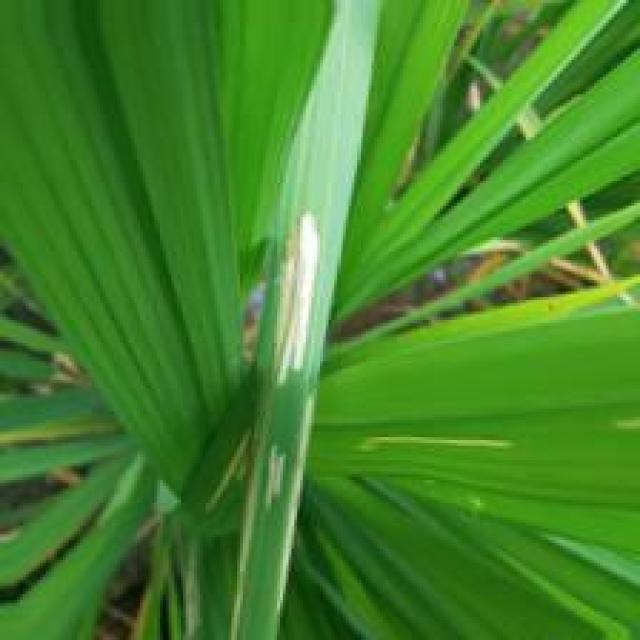Rice_Hispa: (272, 209, 328, 389), (281, 399, 313, 605), (264, 447, 286, 501)
